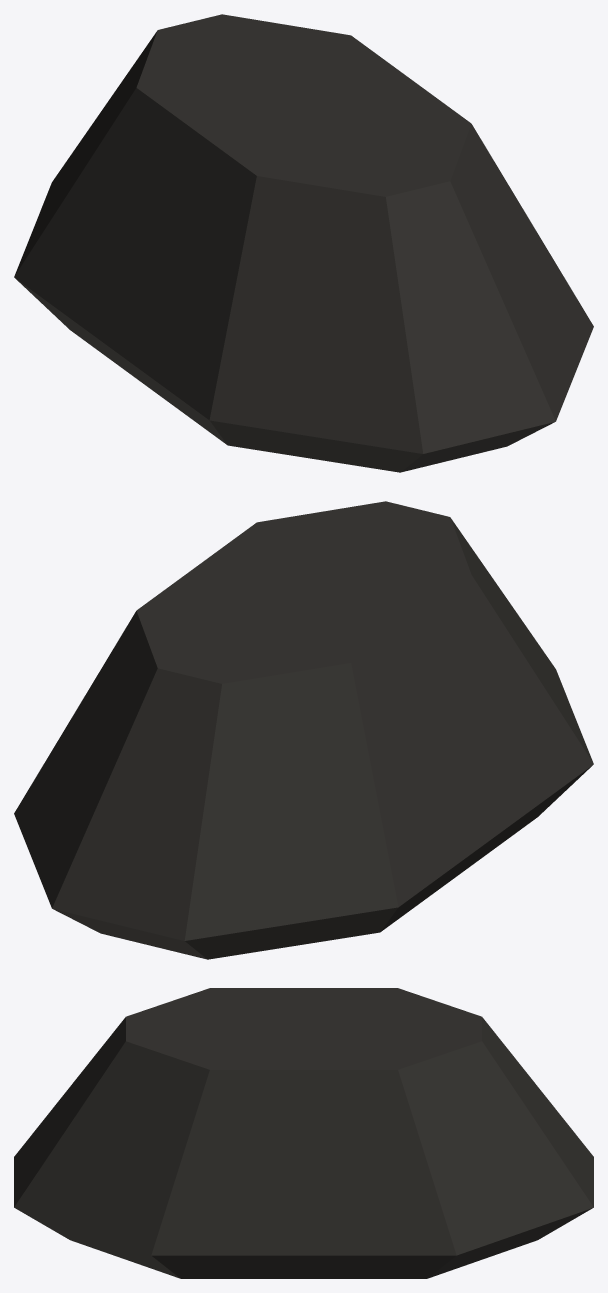
File: env_hanging_light1.fbx
3 views of the same model, one above another, from view 1: azimuth 30°, elevation 25°; view 2: azimuth 150°, elevation 25°; view 3: azimuth 270°, elevation 25° (orthographic). The views are drawn at different scales.
Parts seen in each view (by area): view 1: hanging_light1; view 2: hanging_light1; view 3: hanging_light1.
Part boxes in pixels (box(x1,y1,x2,y2)): hanging_light1: box(14, 14, 593, 472); hanging_light1: box(14, 501, 593, 959); hanging_light1: box(14, 988, 593, 1278).
Bounding box in the file's own units: 37.51 × 22.78 × 62.74.
1 material, 1 textured.
